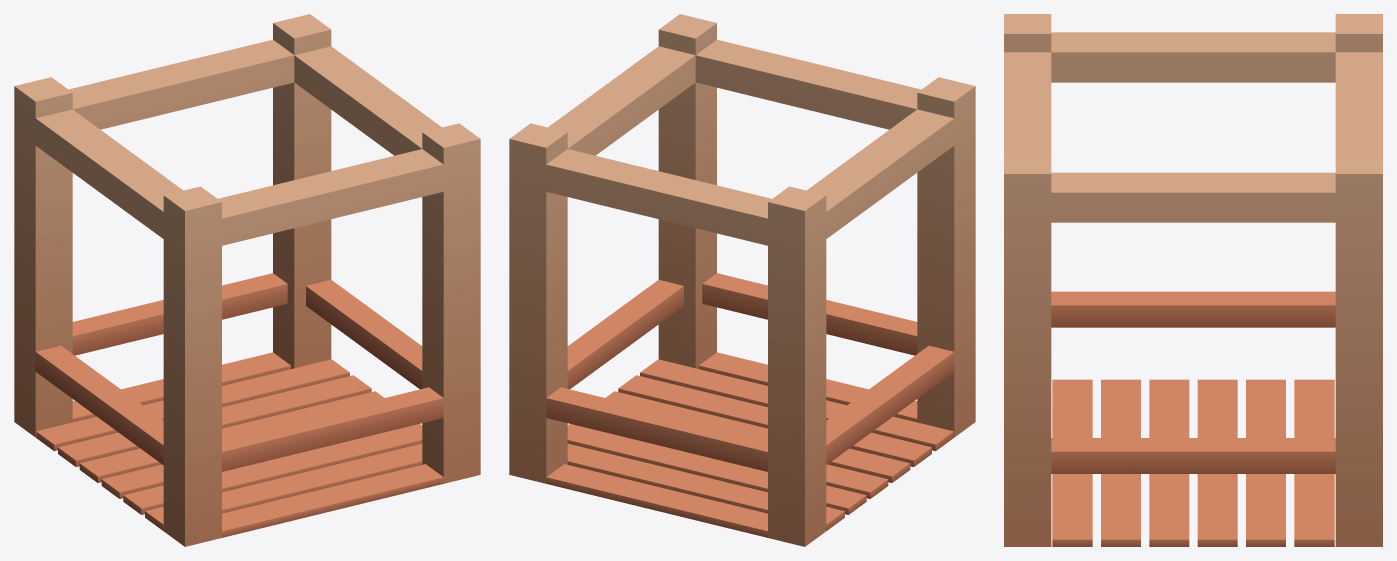
File: tower-square-mid-open.obj
3 renders of one model, left to right at view 1: azimuth 30°, elevation 25°; view 2: azimuth 150°, elevation 25°; view 3: azimuth 270°, elevation 25°, orthographic. The views are drawn at different scales.
Parts seen in each view (by area): view 1: tower-square-mid-open; view 2: tower-square-mid-open; view 3: tower-square-mid-open.
Part boxes in pixels (x1,y1,x2,y2): tower-square-mid-open: (14, 14, 480, 546); tower-square-mid-open: (509, 14, 975, 546); tower-square-mid-open: (1004, 14, 1382, 546).
Size of the model in its own units: 0.93 by 1.01 by 0.93.
1 material, 1 textured.
